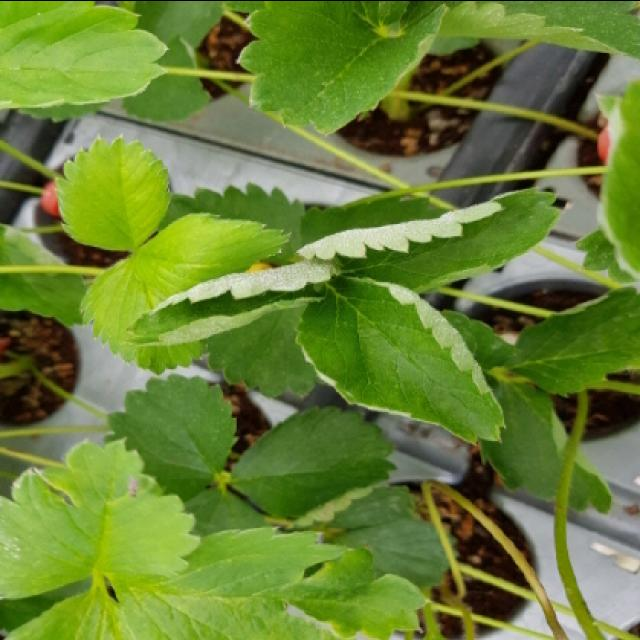Powdery Mildew Leaf: (294, 273, 507, 447), (0, 436, 201, 602), (293, 184, 566, 294), (124, 258, 340, 346)
